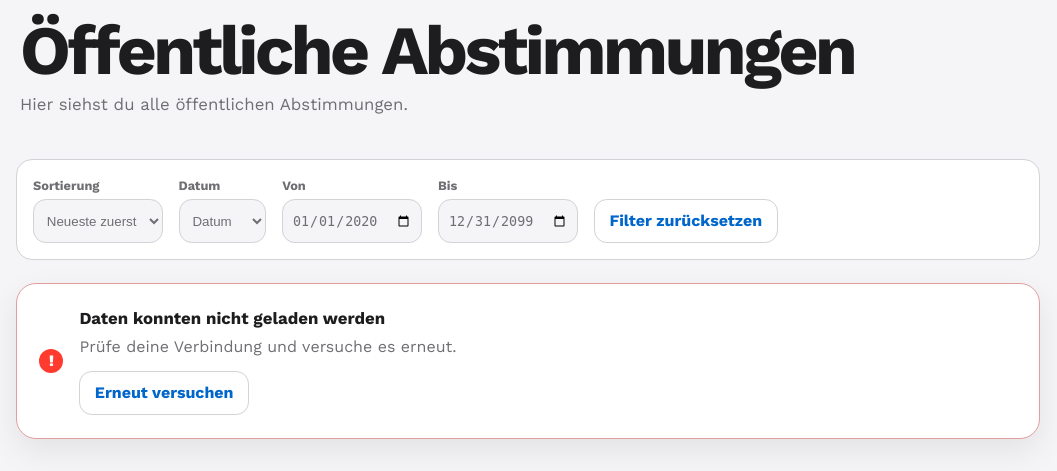
PollsPage › offers retry after a failed list request
The image size is (1057, 471).
Click the button "Erneut versuchen" at coordinates (164, 393), box [79, 371, 249, 415]
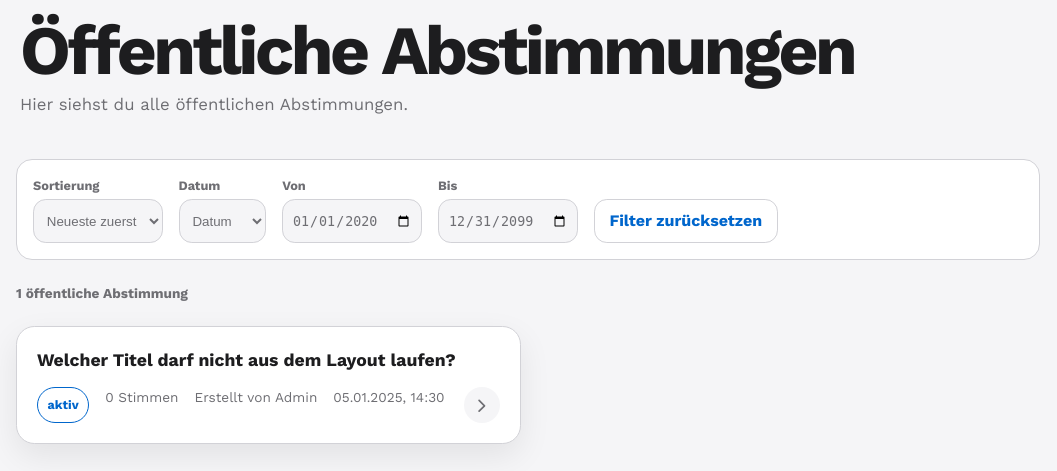
Expected: the link "Welcher Titel" is shown, [16, 326, 521, 444]
